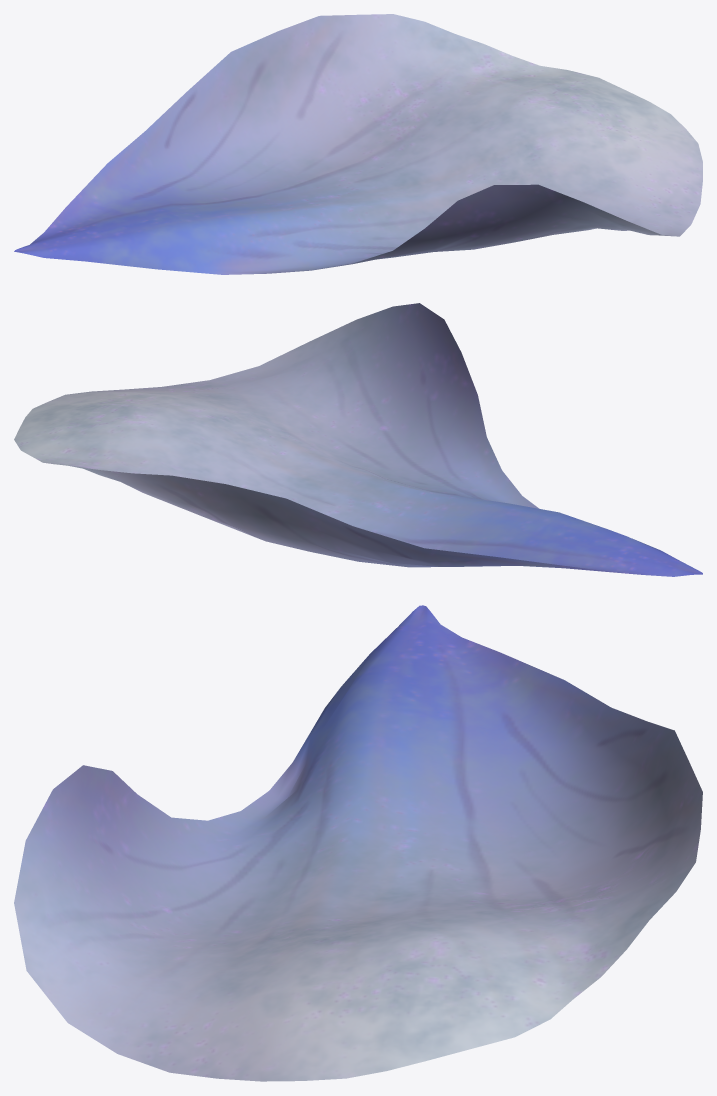
The model's file is bloom-petal.glb.
The picture shows the model from 3 angles, top to bottom: view 1: azimuth 30°, elevation 25°; view 2: azimuth 150°, elevation 25°; view 3: azimuth 270°, elevation 25°; orthographic projection. The views are drawn at different scales.
Visible parts, largest first — view 1: Circle.003; view 2: Circle.003; view 3: Circle.003.
Part boxes in pixels (x1,y1,x2,y2): Circle.003: (14, 14, 702, 274); Circle.003: (14, 303, 702, 576); Circle.003: (14, 605, 702, 1081).
Size of the model in its own units: 1 by 0.149 by 0.6459.
1 material, 1 textured.
